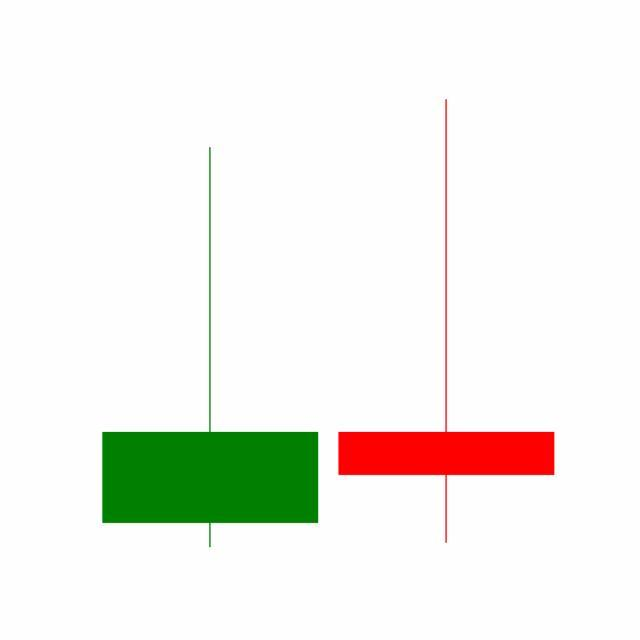Spinning Top: (328, 95, 566, 549)
